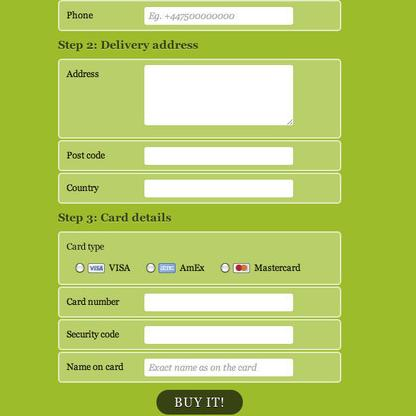button: (156, 389, 243, 416)
field: (141, 63, 297, 127), (141, 291, 297, 313), (141, 323, 295, 345), (142, 145, 295, 167), (141, 357, 297, 378), (141, 5, 296, 25), (142, 179, 295, 197)
field_with_label: (66, 61, 299, 128), (66, 321, 298, 347), (67, 142, 297, 168), (66, 355, 300, 380), (67, 289, 298, 314), (66, 4, 298, 27), (67, 176, 297, 199)
radio: (73, 262, 85, 275), (220, 263, 231, 273), (146, 263, 154, 272)
radio_with_label: (218, 260, 301, 276), (70, 259, 130, 276), (143, 260, 206, 275)
